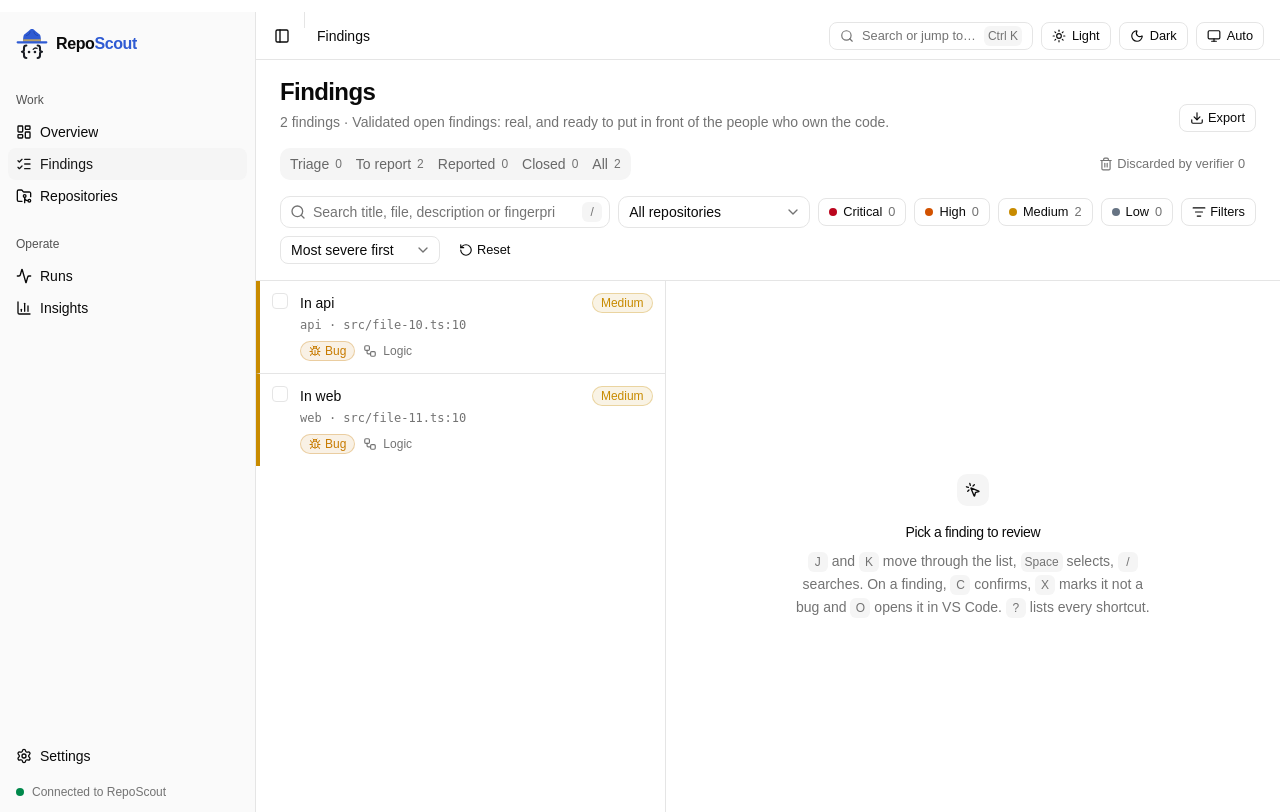
Test: reporting in bulk › is not offered for findings of two repositories, and says why
Click the checkbox named "Select In api" at (280, 301), box [272, 293, 288, 309]
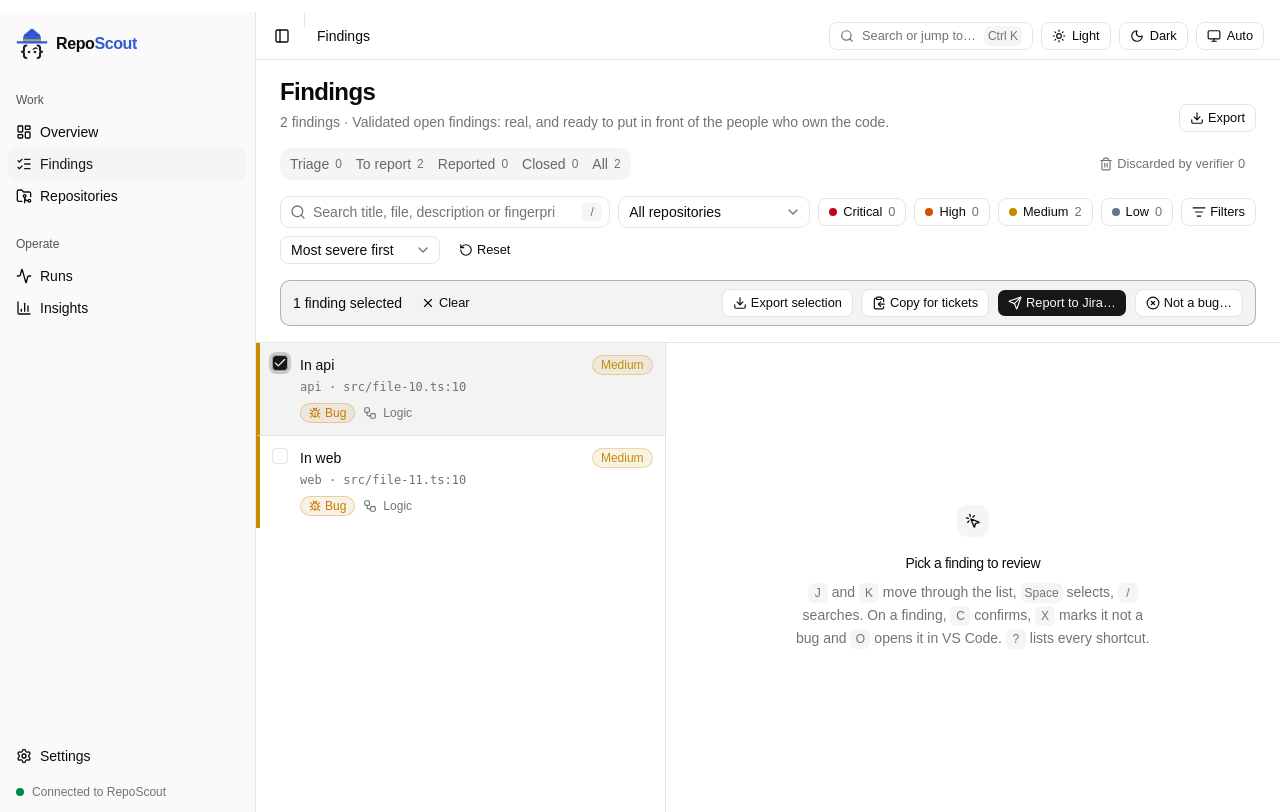
Click the checkbox named "Select In web" at (280, 456), box [272, 448, 288, 464]
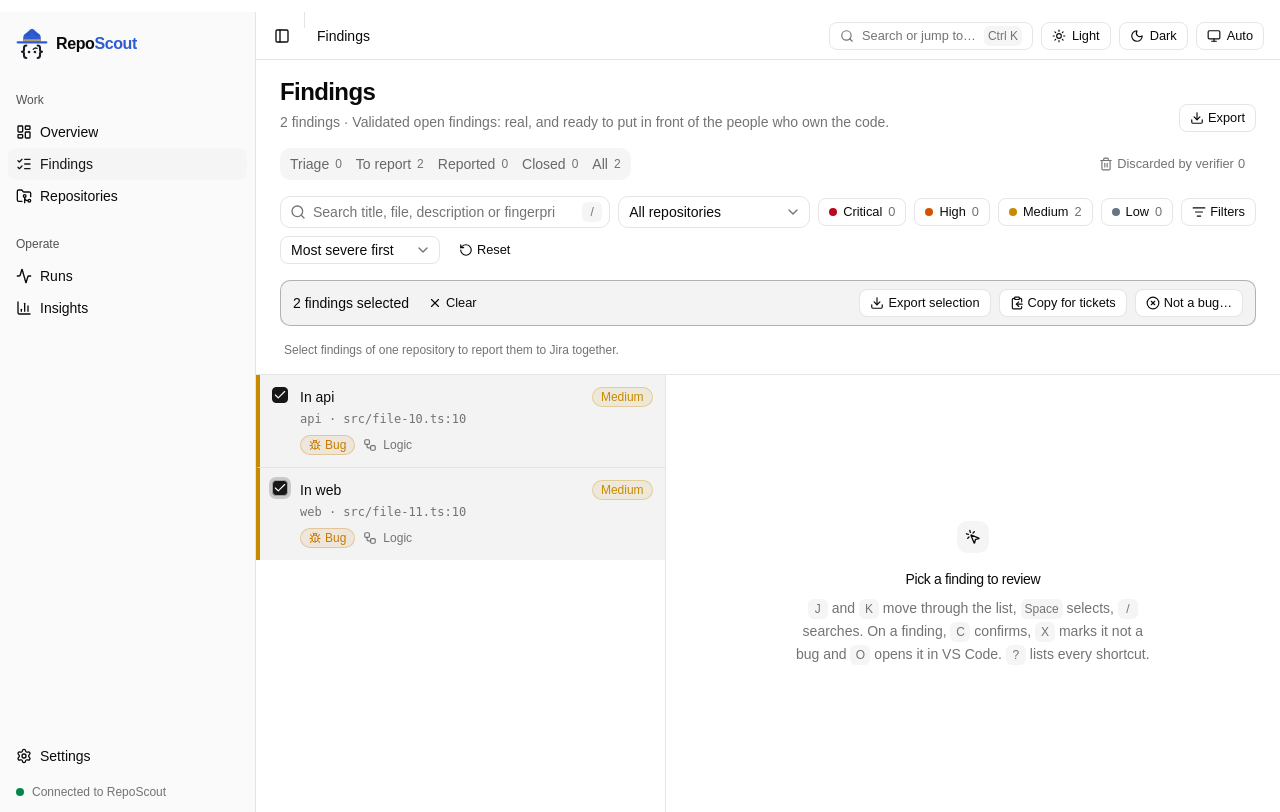
Result: the button "Report to Jira" is gone
Result: the text "Select findings of one repository to report them to Jira together." is shown at [284, 343, 619, 357]
